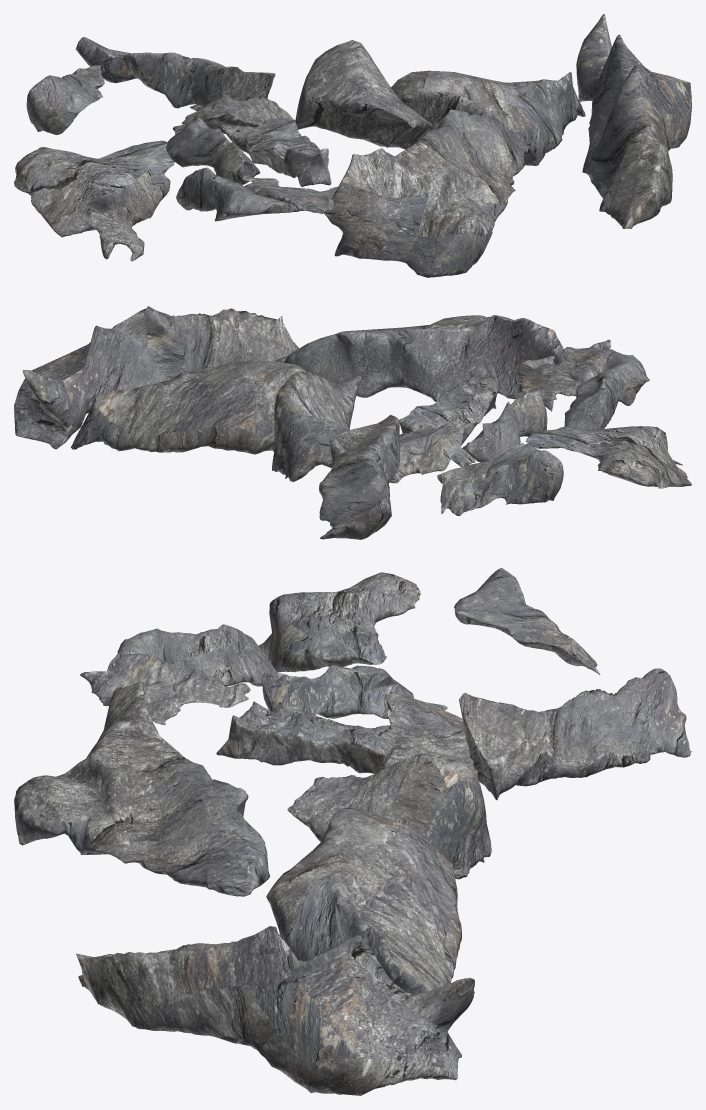
Rendered from Rocks.fbx.
3 views of the same model, one above another, from view 1: azimuth 30°, elevation 25°; view 2: azimuth 150°, elevation 25°; view 3: azimuth 270°, elevation 25° (orthographic). The views are drawn at different scales.
Parts seen in each view (by area): view 1: Rock5, Rock9, Rock1, Rock2, Rock12, Rock11, Rock7, Rock3, Rock10, Rock4, Rock8, Rock13; view 2: Rock9, Rock5, Rock2, Rock11, Rock12, Rock3, Rock1, Rock10, Rock7, Rock8, Rock4, Rock13; view 3: Rock9, Rock5, Rock2, Rock11, Rock12, Rock1, Rock7, Rock13, Rock10, Rock4, Rock3, Rock8.
Part boxes in pixels (box(x1,y1,x2,y2)): Rock5: box(324, 109, 531, 277); Rock9: box(576, 14, 691, 228); Rock1: box(14, 140, 174, 261); Rock2: box(391, 70, 585, 165); Rock12: box(295, 40, 432, 149); Rock11: box(75, 37, 275, 108); Rock7: box(220, 117, 331, 187); Rock3: box(26, 65, 104, 134); Rock10: box(176, 167, 299, 221); Rock4: box(166, 117, 260, 185); Rock8: box(172, 94, 295, 134); Rock13: box(242, 175, 337, 213); Rock9: box(14, 306, 298, 449); Rock5: box(275, 315, 563, 411); Rock2: box(71, 360, 306, 454); Rock11: box(319, 414, 399, 539); Rock12: box(272, 371, 361, 482); Rock3: box(437, 442, 563, 515); Rock1: box(525, 426, 691, 488); Rock10: box(564, 349, 649, 429); Rock7: box(398, 366, 498, 445); Rock8: box(389, 417, 475, 483); Rock4: box(462, 390, 547, 462); Rock13: box(522, 339, 610, 402); Rock9: box(76, 926, 474, 1095); Rock5: box(14, 681, 270, 896); Rock2: box(266, 807, 461, 994); Rock11: box(459, 668, 691, 800); Rock12: box(287, 754, 491, 879); Rock1: box(258, 572, 420, 672); Rock7: box(216, 701, 395, 773); Rock13: box(80, 653, 250, 725); Rock10: box(107, 624, 277, 686); Rock4: box(261, 665, 413, 718); Rock3: box(454, 568, 600, 674); Rock8: box(378, 692, 478, 780).
Bounding box in the file's own units: 228 × 48.64 × 160.
1 material, 1 textured.
